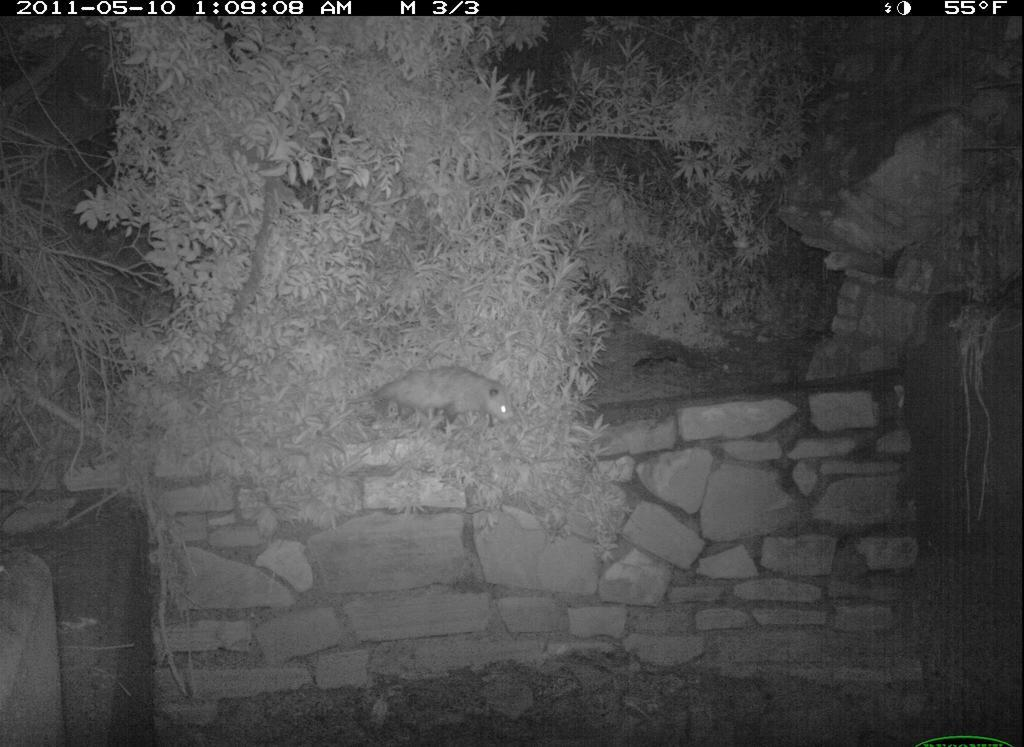opossum: (325, 363, 520, 448)
